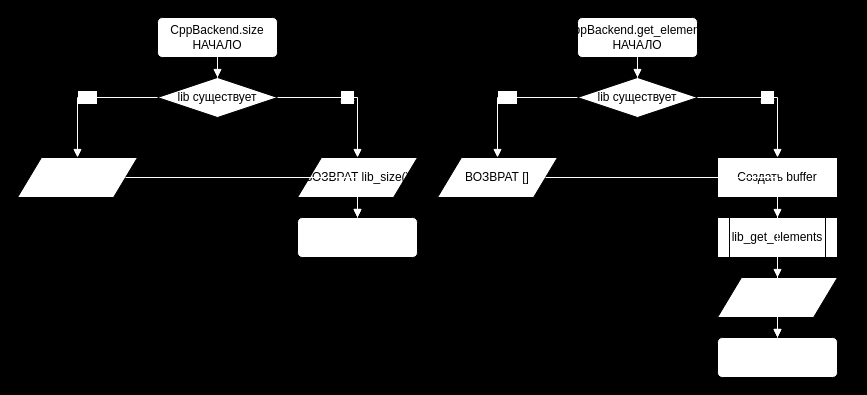
Image size: 867x395. Some labels were removed from this diagram. Each missing label, with the centre of its shape:
ВОЗВРАТ 0: point (77, 177)
ВОЗВРАТ list: point (777, 297)
КОНЕЦ CppBackend.get_elements: point (777, 357)
КОНЕЦ CppBackend.size: point (357, 237)
